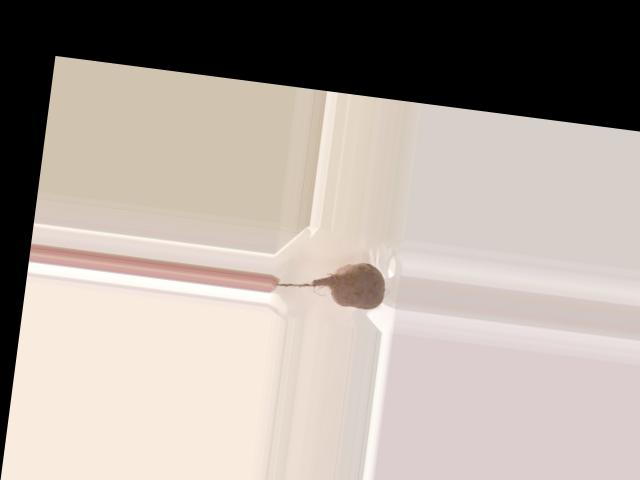beet: (273, 251, 388, 311)
